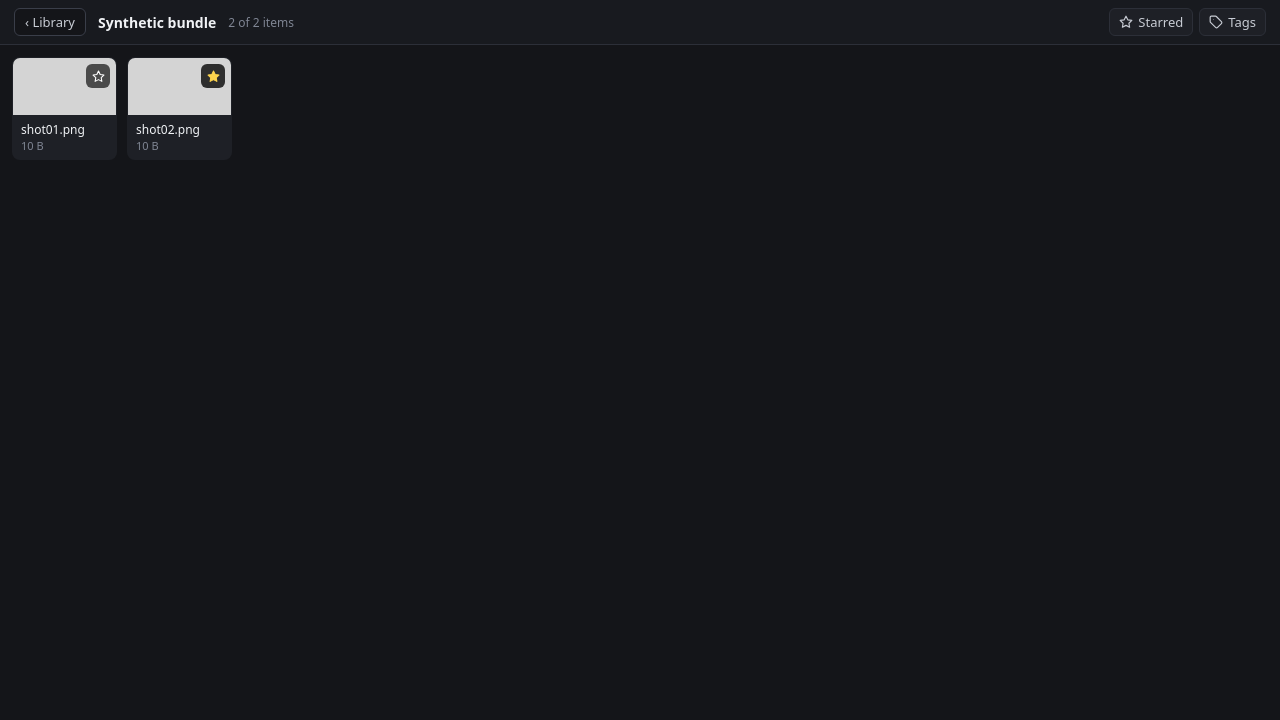
Test: in-album Starred and Tags filter bar is gated on album_version >= 2 and queries album params
Expected: the text "shot01.png" is shown, [21,121,85,138]
# Toggle Starred filter
Step 1. Click the button with aria-label "Filter bundle by starred files" → {"x": 1151, "y": 22}, box [1109,8,1193,36]
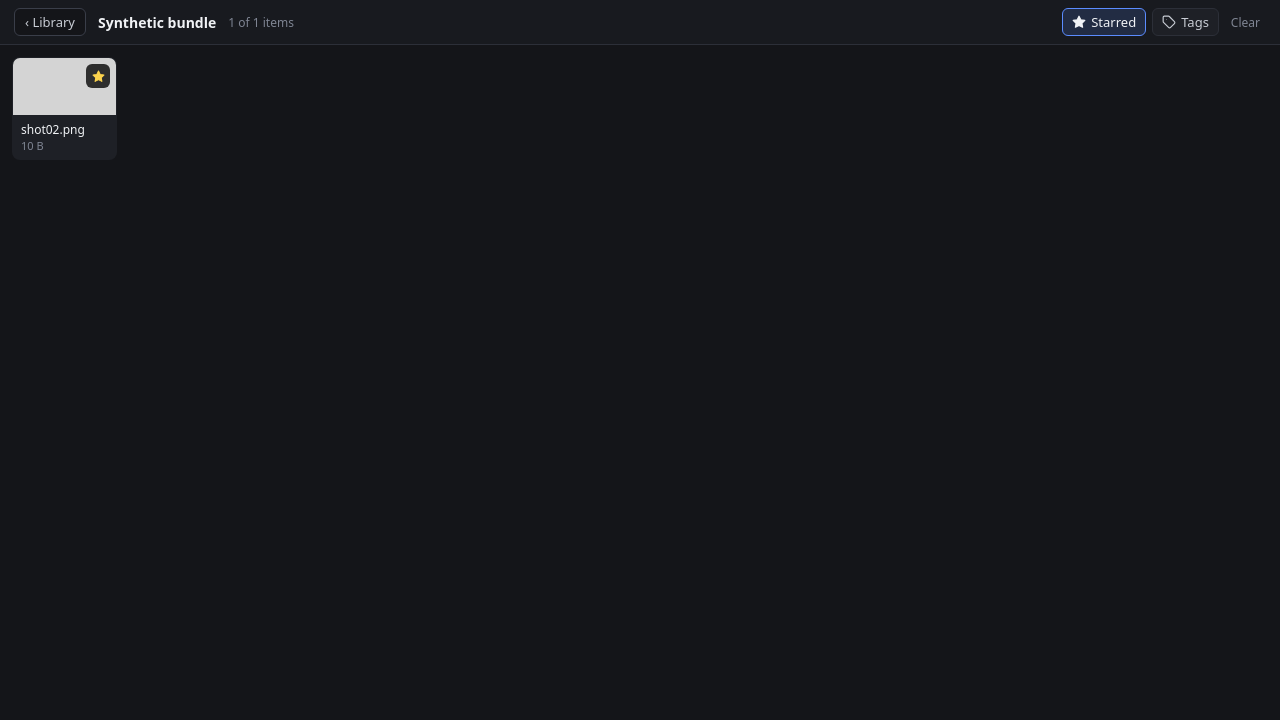
Expected: the text "shot02.png" is shown, [21,121,85,138]
Now the button "shot01.png" is gone
# Combine with Tags filter (All mode triggers filtered empty state)
Step 2. Click the button with aria-label "Filter bundle by tags" → {"x": 1186, "y": 22}, box [1152,8,1219,36]
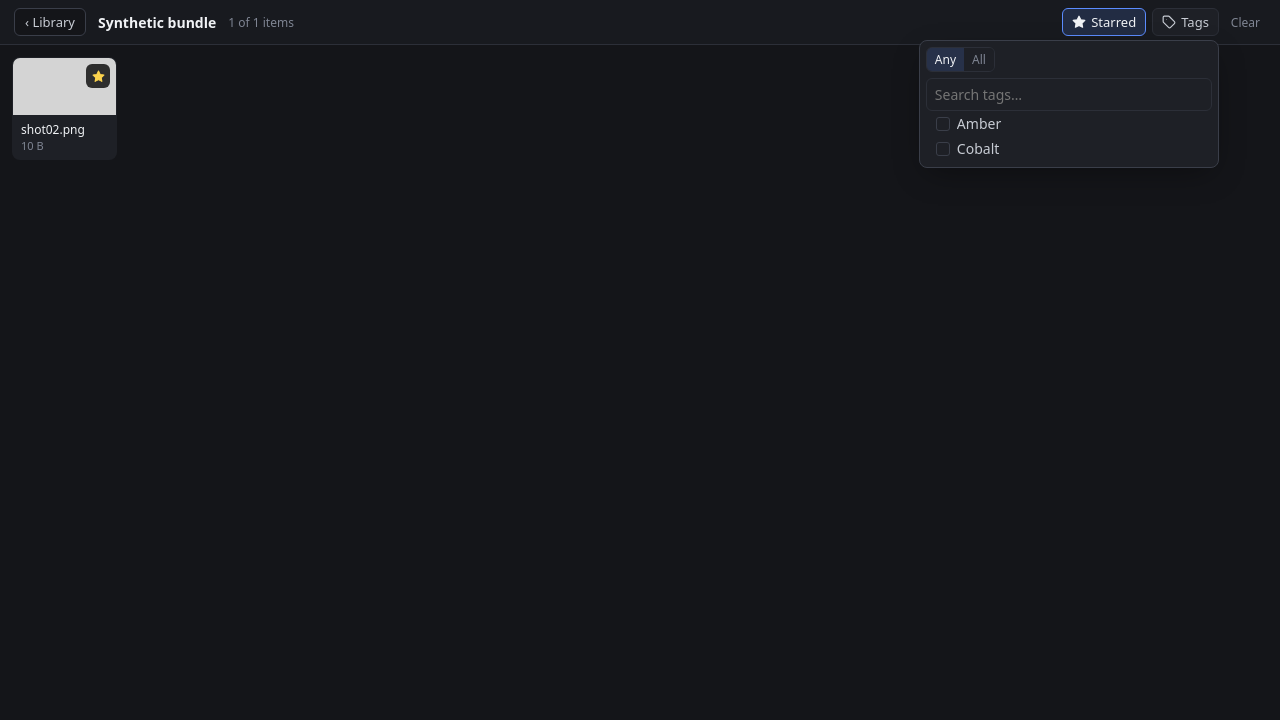
Step 3. Click the checkbox labelled "Amber" → {"x": 979, "y": 124}, box [926,111,1212,136]
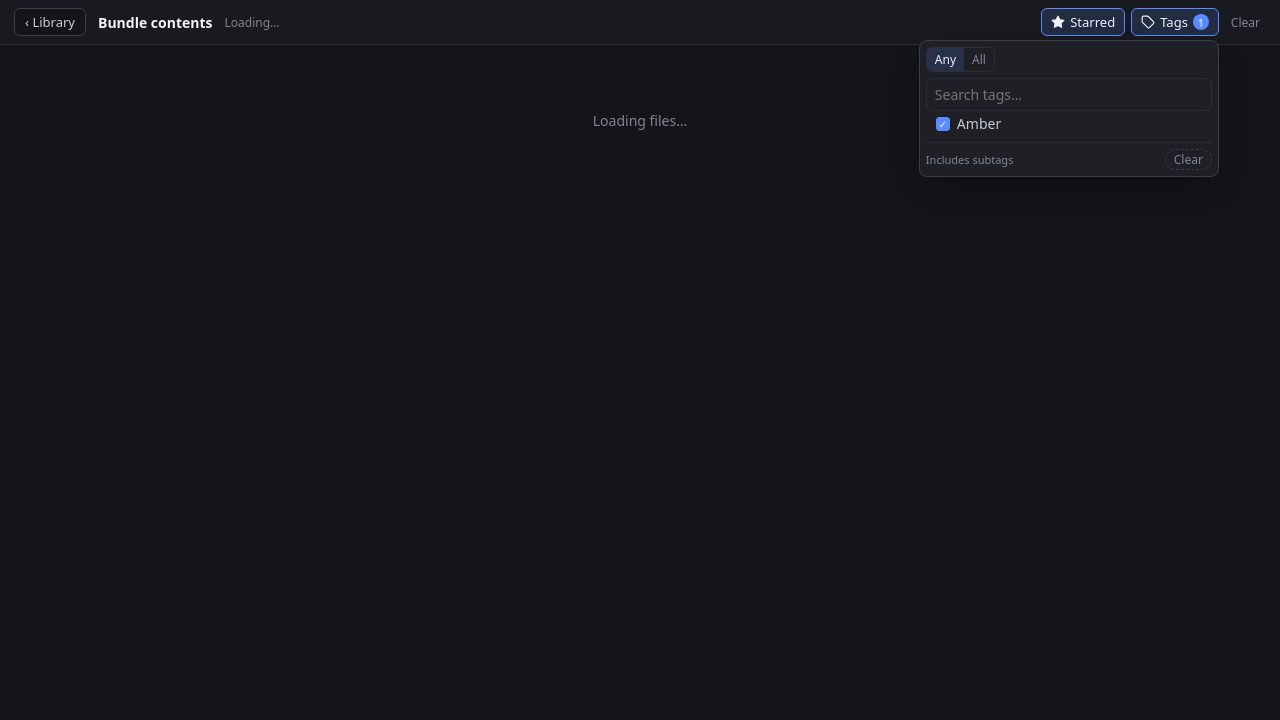
Step 4. Click the button "All" → {"x": 979, "y": 60}, box [964,48,994,71]
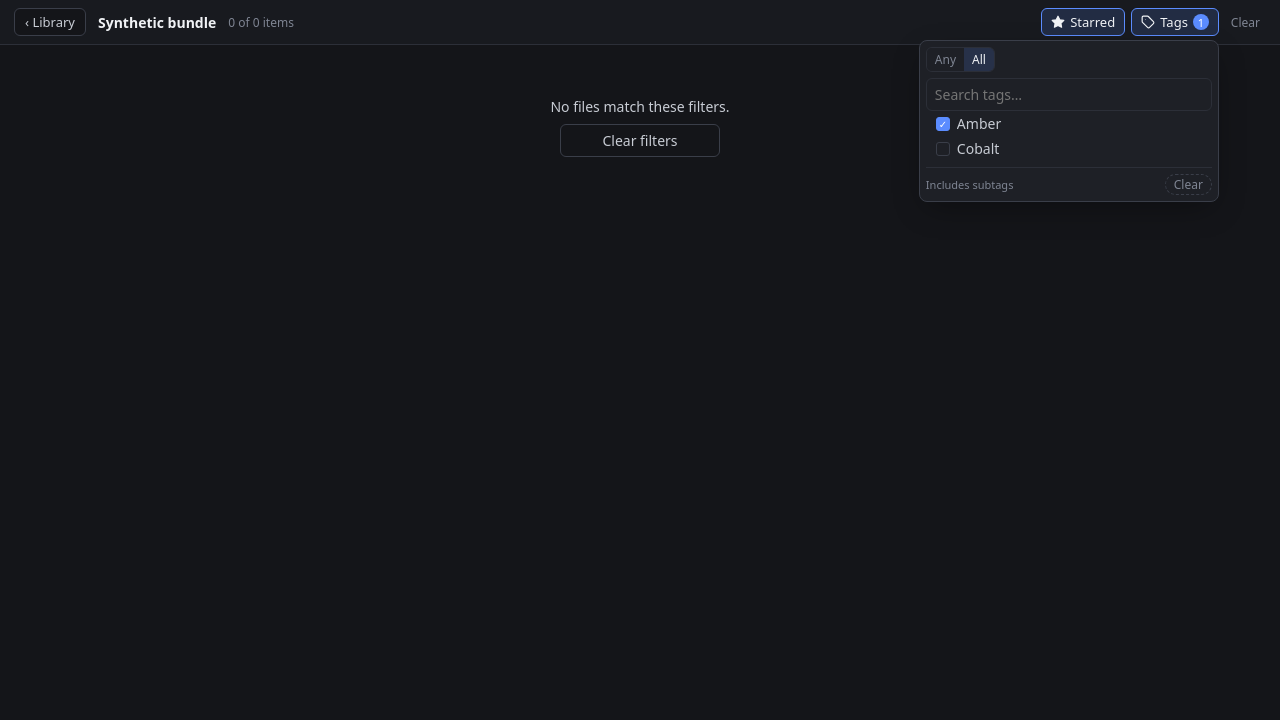
Now the text "No files match these filters." is shown, box [550,97,730,116]
# Close tag popover before clicking Clear filters underneath it
Step 5. Press Escape
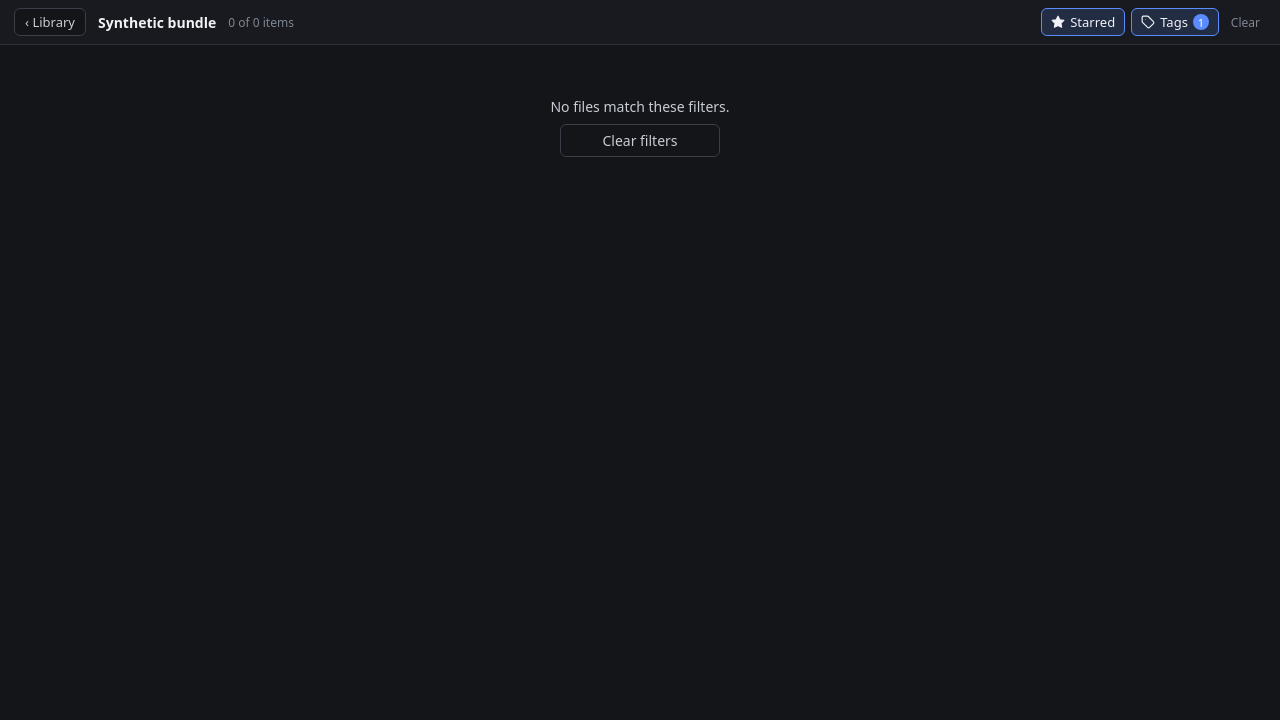
Step 6. Click the button "Clear filters" → {"x": 640, "y": 140}, box [560,124,720,157]
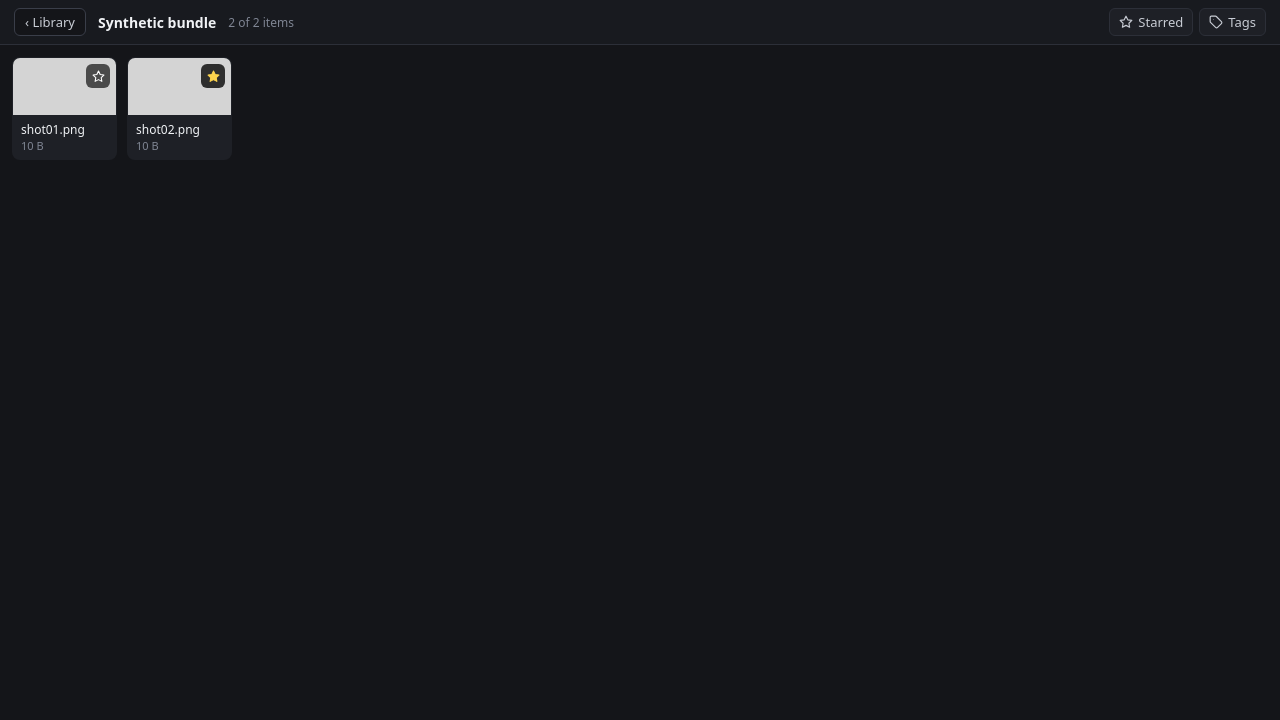
Now the text "shot01.png" is shown, box [21,121,85,138]
